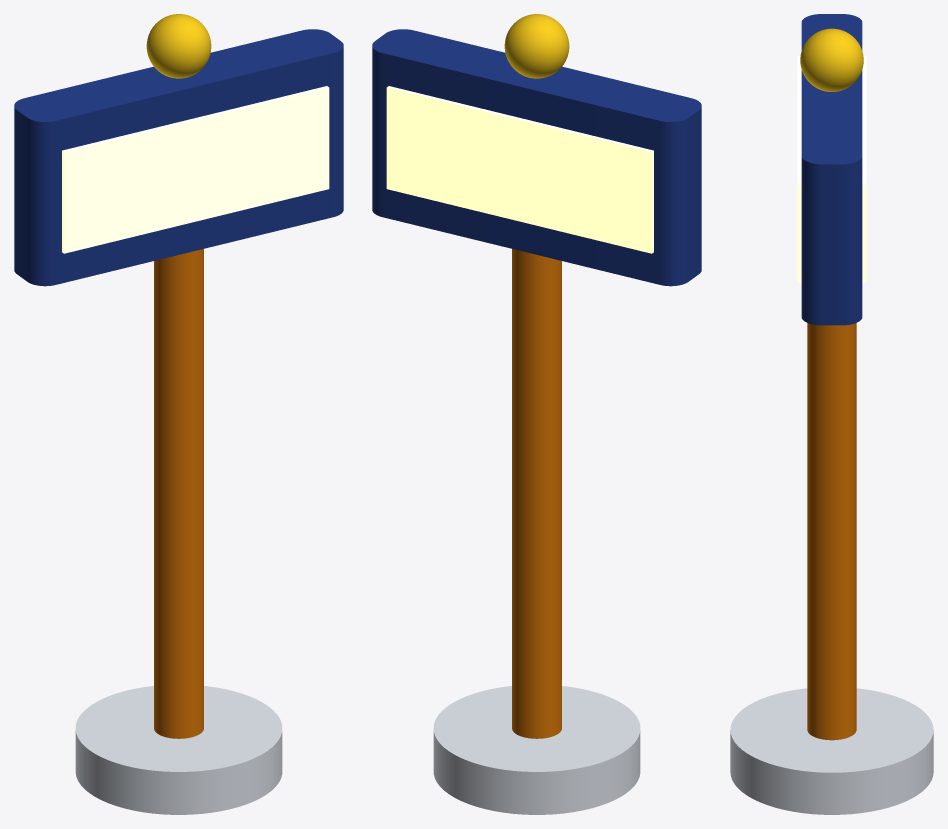
The model's file is hotel_sign.glb.
3 renders of one model, left to right at view 1: azimuth 30°, elevation 25°; view 2: azimuth 150°, elevation 25°; view 3: azimuth 270°, elevation 25°, orthographic.
Parts seen in each view (by area): view 1: hs_plaque, hs_glow, hs_pole, hs_base, hs_star; view 2: hs_plaque, hs_glow, hs_pole, hs_base, hs_star; view 3: hs_pole, hs_base, hs_plaque, hs_star, hs_glow.
Boxes of the visible parts, left/top/right/bottom form: hs_plaque: left=14, top=29, right=343, bottom=286; hs_glow: left=62, top=86, right=329, bottom=253; hs_pole: left=154, top=249, right=203, bottom=738; hs_base: left=75, top=686, right=282, bottom=814; hs_star: left=146, top=14, right=211, bottom=78; hs_plaque: left=372, top=29, right=701, bottom=286; hs_glow: left=386, top=86, right=653, bottom=253; hs_pole: left=512, top=249, right=561, bottom=738; hs_base: left=433, top=686, right=640, bottom=814; hs_star: left=504, top=14, right=569, bottom=78; hs_pole: left=807, top=323, right=856, bottom=740; hs_base: left=730, top=688, right=933, bottom=814; hs_plaque: left=801, top=14, right=862, bottom=325; hs_star: left=800, top=28, right=863, bottom=91; hs_glow: left=797, top=56, right=866, bottom=282.
Bounding box in the file's own units: 0.42 × 0.965 × 0.24.
